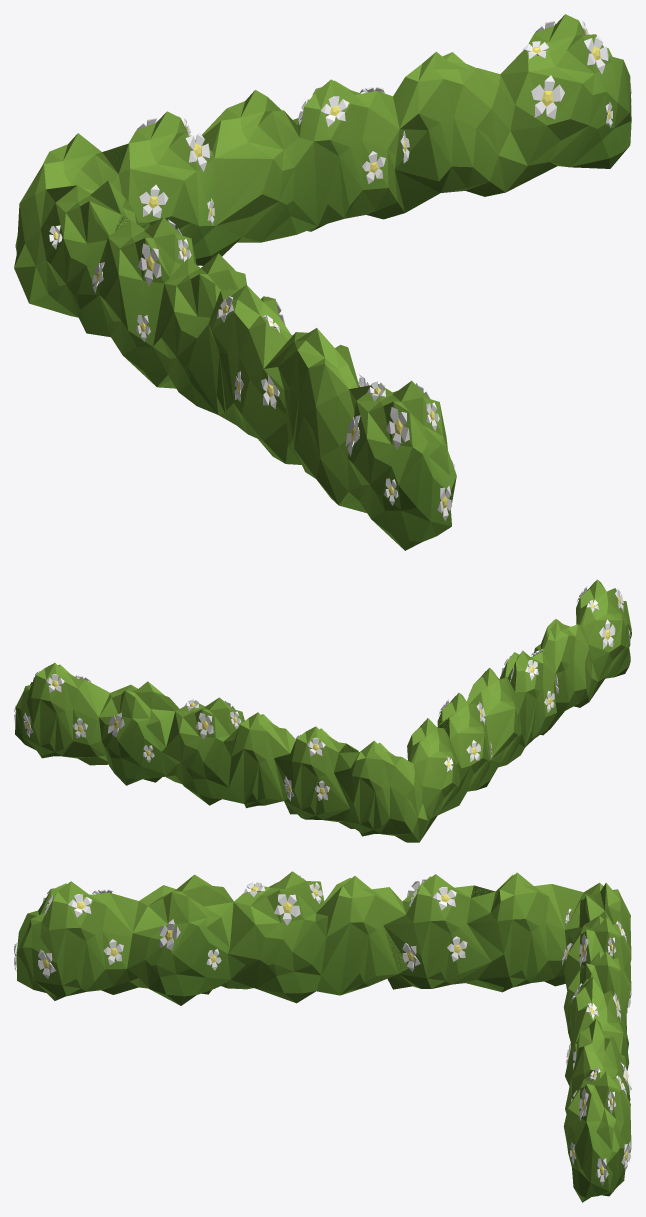
Rendered from corner wall.fbx.
The picture shows the model from 3 angles, top to bottom: view 1: azimuth 30°, elevation 25°; view 2: azimuth 150°, elevation 25°; view 3: azimuth 270°, elevation 25°; orthographic projection. The views are drawn at different scales.
Parts seen in each view (by area): view 1: group7_pasted__group_pasted__空白_pasted__Bush_big_flowers_e_4; view 2: group7_pasted__group_pasted__空白_pasted__Bush_big_flowers_e_4; view 3: group7_pasted__group_pasted__空白_pasted__Bush_big_flowers_e_4.
Boxes of the visible parts, bbox=[...] form: group7_pasted__group_pasted__空白_pasted__Bush_big_flowers_e_4: bbox=[14, 14, 631, 550]; group7_pasted__group_pasted__空白_pasted__Bush_big_flowers_e_4: bbox=[14, 579, 631, 842]; group7_pasted__group_pasted__空白_pasted__Bush_big_flowers_e_4: bbox=[14, 871, 631, 1202].
Size of the model in its own units: 197 by 45.69 by 213.
Materials: 12 (12 with a texture image).
